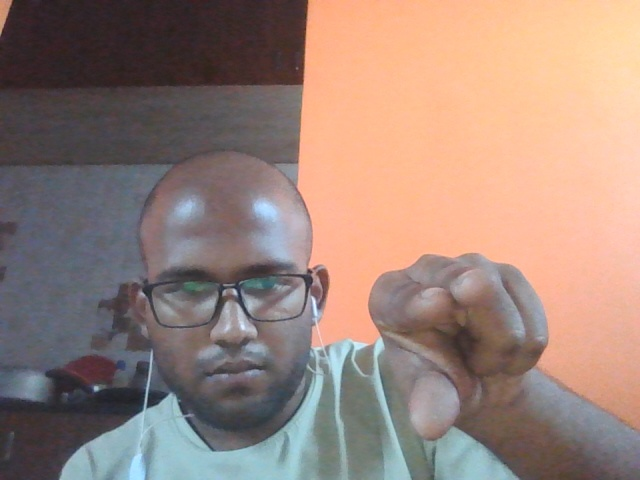no: (344, 229, 594, 463)
